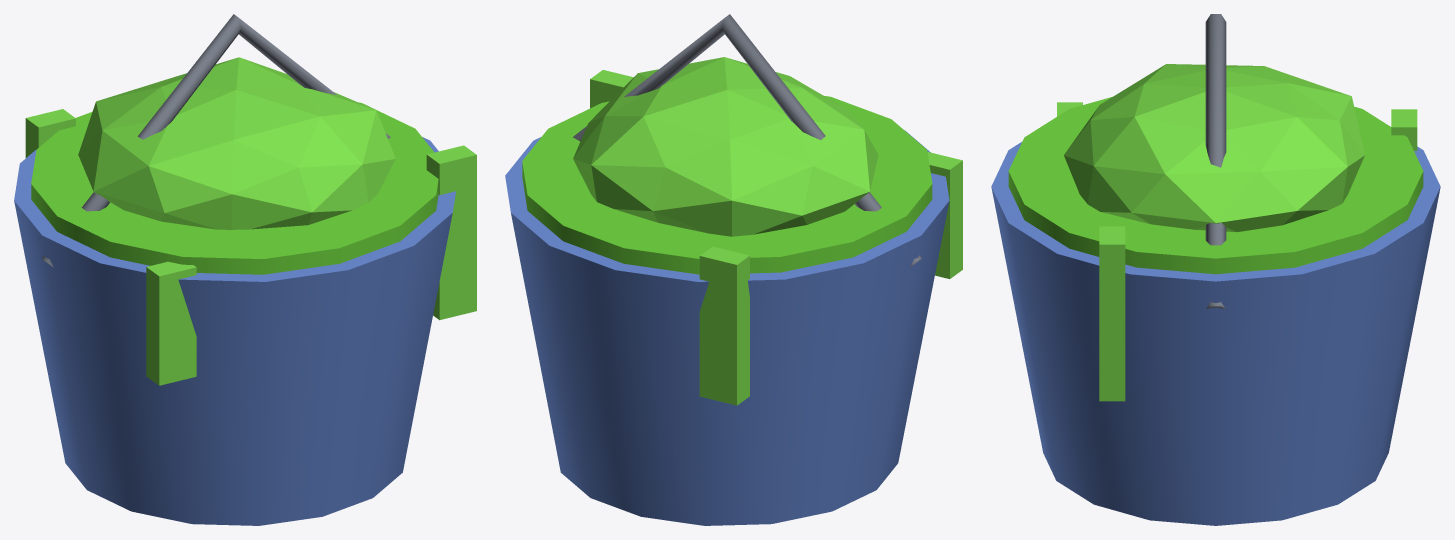
The model's file is slime_bucket.glb.
3 views of the same model, side by side, from view 1: azimuth 30°, elevation 25°; view 2: azimuth 150°, elevation 25°; view 3: azimuth 270°, elevation 25° (orthographic).
Visible parts, largest first — view 1: root; view 2: root; view 3: root.
Boxes of the visible parts, x1=… form: root: x1=14, y1=14, x2=476, y2=525; root: x1=505, y1=14, x2=962, y2=525; root: x1=991, y1=14, x2=1440, y2=525.
Size of the model in its own units: 0.52 by 0.5604 by 0.52.
